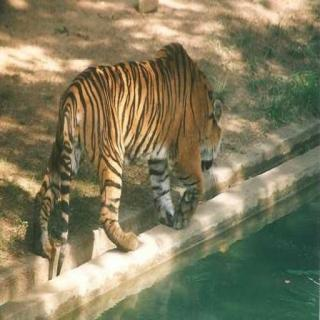Tiger: (28, 43, 236, 266)
